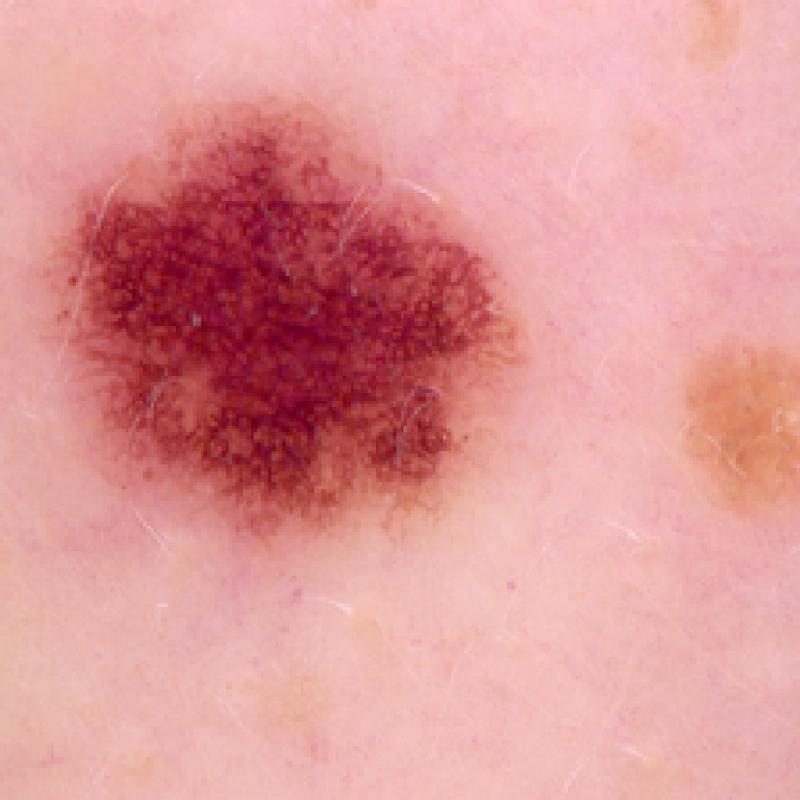benign: (48, 91, 532, 544)
